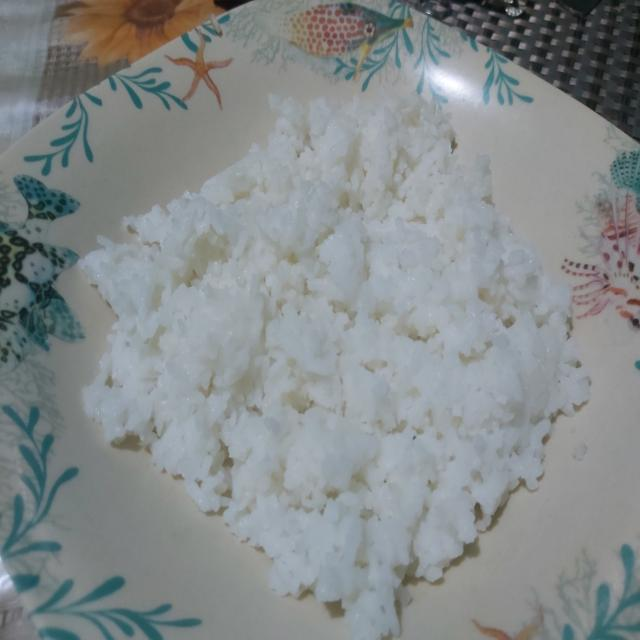Chicken -Chicken Inasal-: (98, 93, 551, 571)
